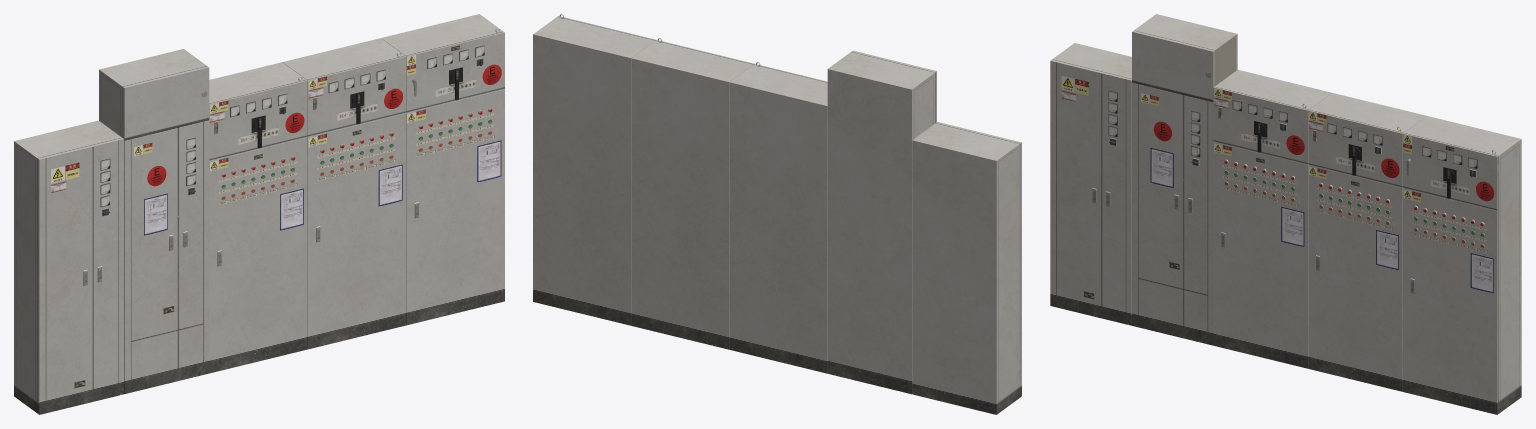
Rendered from peidian10.FBX.
3 renders of one model, left to right at view 1: azimuth 30°, elevation 25°; view 2: azimuth 150°, elevation 25°; view 3: azimuth 330°, elevation 25°, orthographic. The views are drawn at different scales.
Parts seen in each view (by area): view 1: YF_Model_peidian10; view 2: YF_Model_peidian10; view 3: YF_Model_peidian10.
Boxes of the visible parts, x1=… form: YF_Model_peidian10: x1=14, y1=14, x2=504, y2=414; YF_Model_peidian10: x1=533, y1=14, x2=1021, y2=414; YF_Model_peidian10: x1=1050, y1=14, x2=1521, y2=414.
Bounding box in the file's own units: 3172 × 1993 × 324.
1 material, 1 textured.
